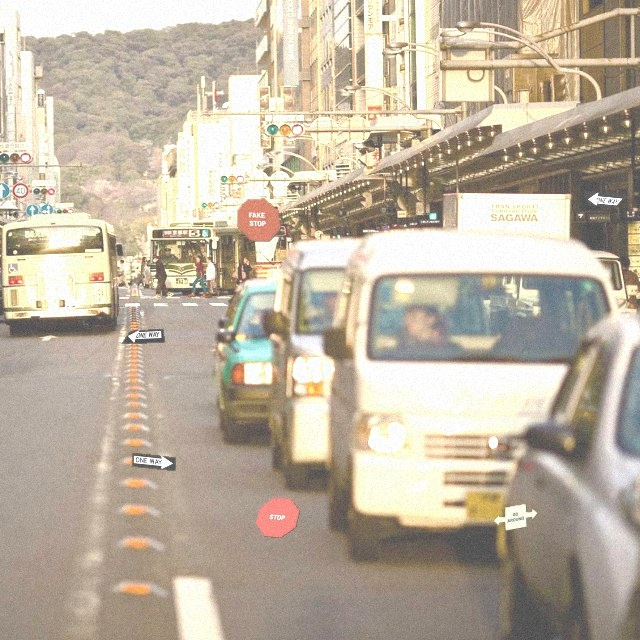FAKE_STOP: (236, 198, 281, 242)
GO_AROUND: (493, 503, 538, 531)
ONE_WAY_ left: (584, 190, 629, 208), (120, 328, 165, 344)
ONE_WAY_ right: (131, 452, 176, 471)
STOP: (255, 497, 300, 538)
